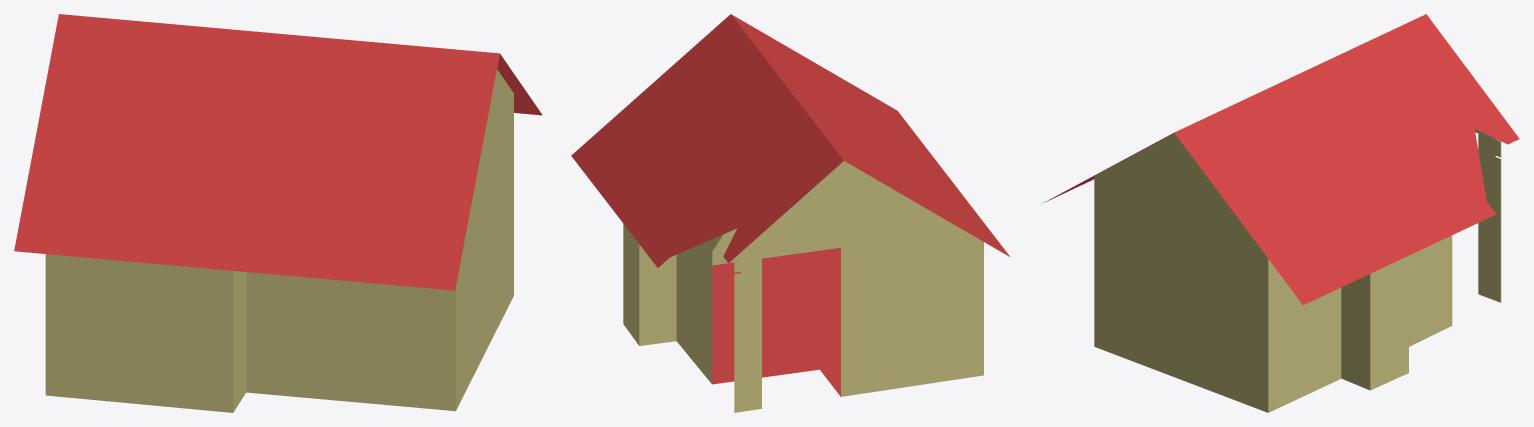
The picture shows the model from 3 angles, left to right: view 1: azimuth 30°, elevation 25°; view 2: azimuth 150°, elevation 25°; view 3: azimuth 270°, elevation 25°; orthographic projection. The views are drawn at different scales.
Size of the model in its own units: 32.74 by 30.38 by 17.55.
